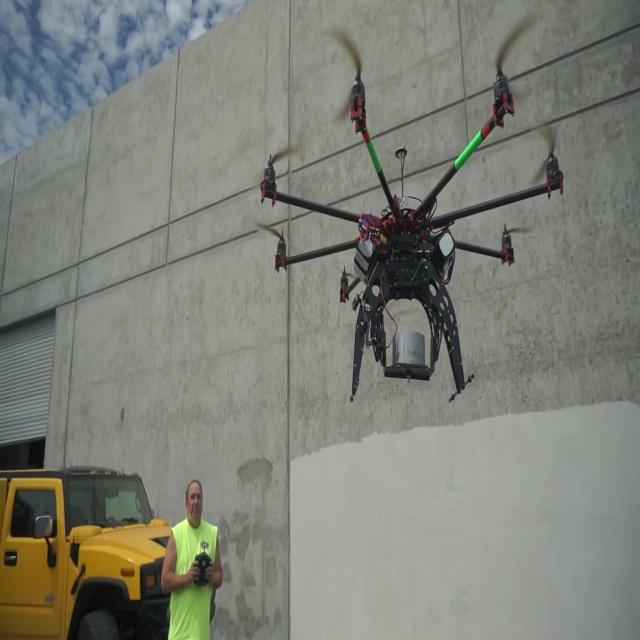drone: (247, 28, 584, 409)
